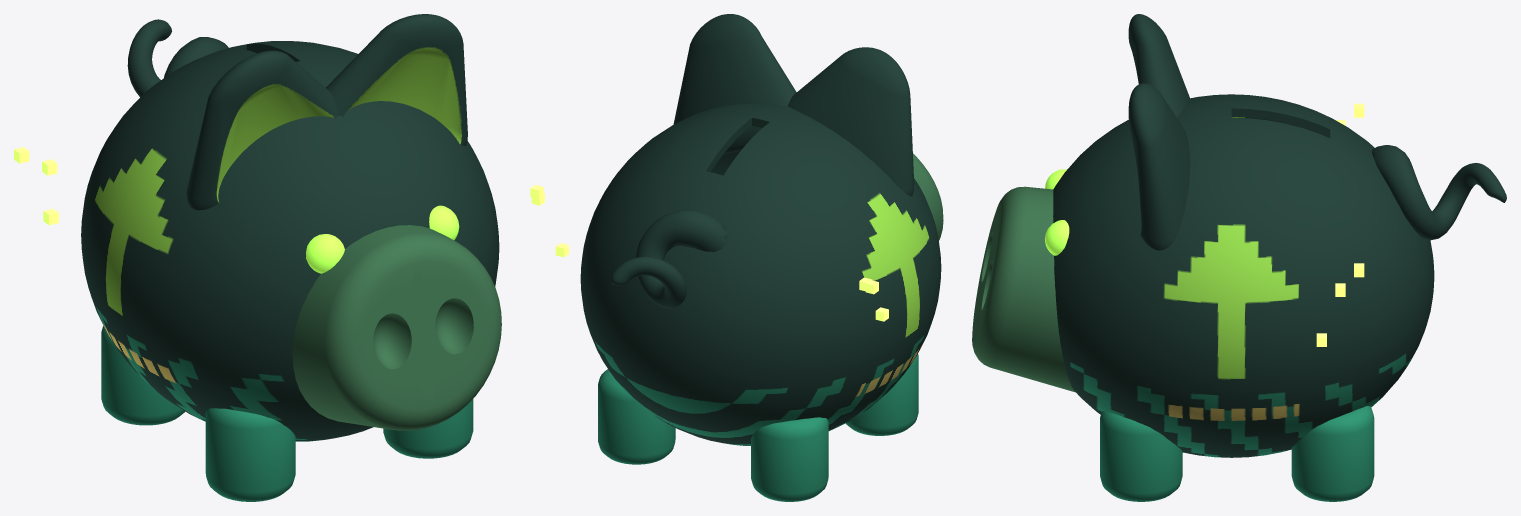
File: powerup-arcade-v1-complete.fbx
3 views of the same model, side by side, from view 1: azimuth 30°, elevation 25°; view 2: azimuth 150°, elevation 25°; view 3: azimuth 270°, elevation 25° (orthographic). The views are drawn at different scales.
Visible parts, largest first — view 1: Body, Snout, Ears, Legs, Tail, EyePreview; view 2: Body, Ears, Legs, Tail, Snout; view 3: Body, Snout, Legs, Ears, Tail, EyePreview.
Part boxes in pixels (bbox=[...]): Body: bbox=[81, 41, 499, 441]; Snout: bbox=[292, 225, 501, 430]; Ears: bbox=[186, 14, 467, 210]; Legs: bbox=[101, 326, 473, 501]; Tail: bbox=[127, 19, 228, 97]; EyePreview: bbox=[306, 205, 459, 273]; Body: bbox=[580, 104, 941, 445]; Ears: bbox=[673, 14, 914, 196]; Legs: bbox=[598, 354, 918, 501]; Tail: bbox=[611, 209, 727, 308]; Snout: bbox=[913, 153, 943, 240]; Body: bbox=[1053, 94, 1434, 457]; Snout: bbox=[972, 186, 1075, 392]; Legs: bbox=[1100, 406, 1374, 501]; Ears: bbox=[1128, 14, 1190, 250]; Tail: bbox=[1372, 145, 1506, 240]; EyePreview: bbox=[1045, 169, 1069, 255].
Size of the model in its own units: 1377 by 1397 by 1708.
9 materials, 2 textured.
